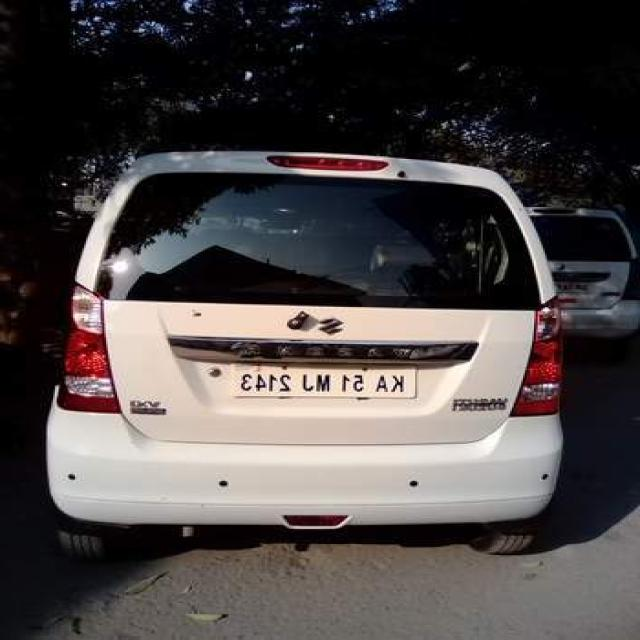number-plate: (186, 359, 425, 403)
